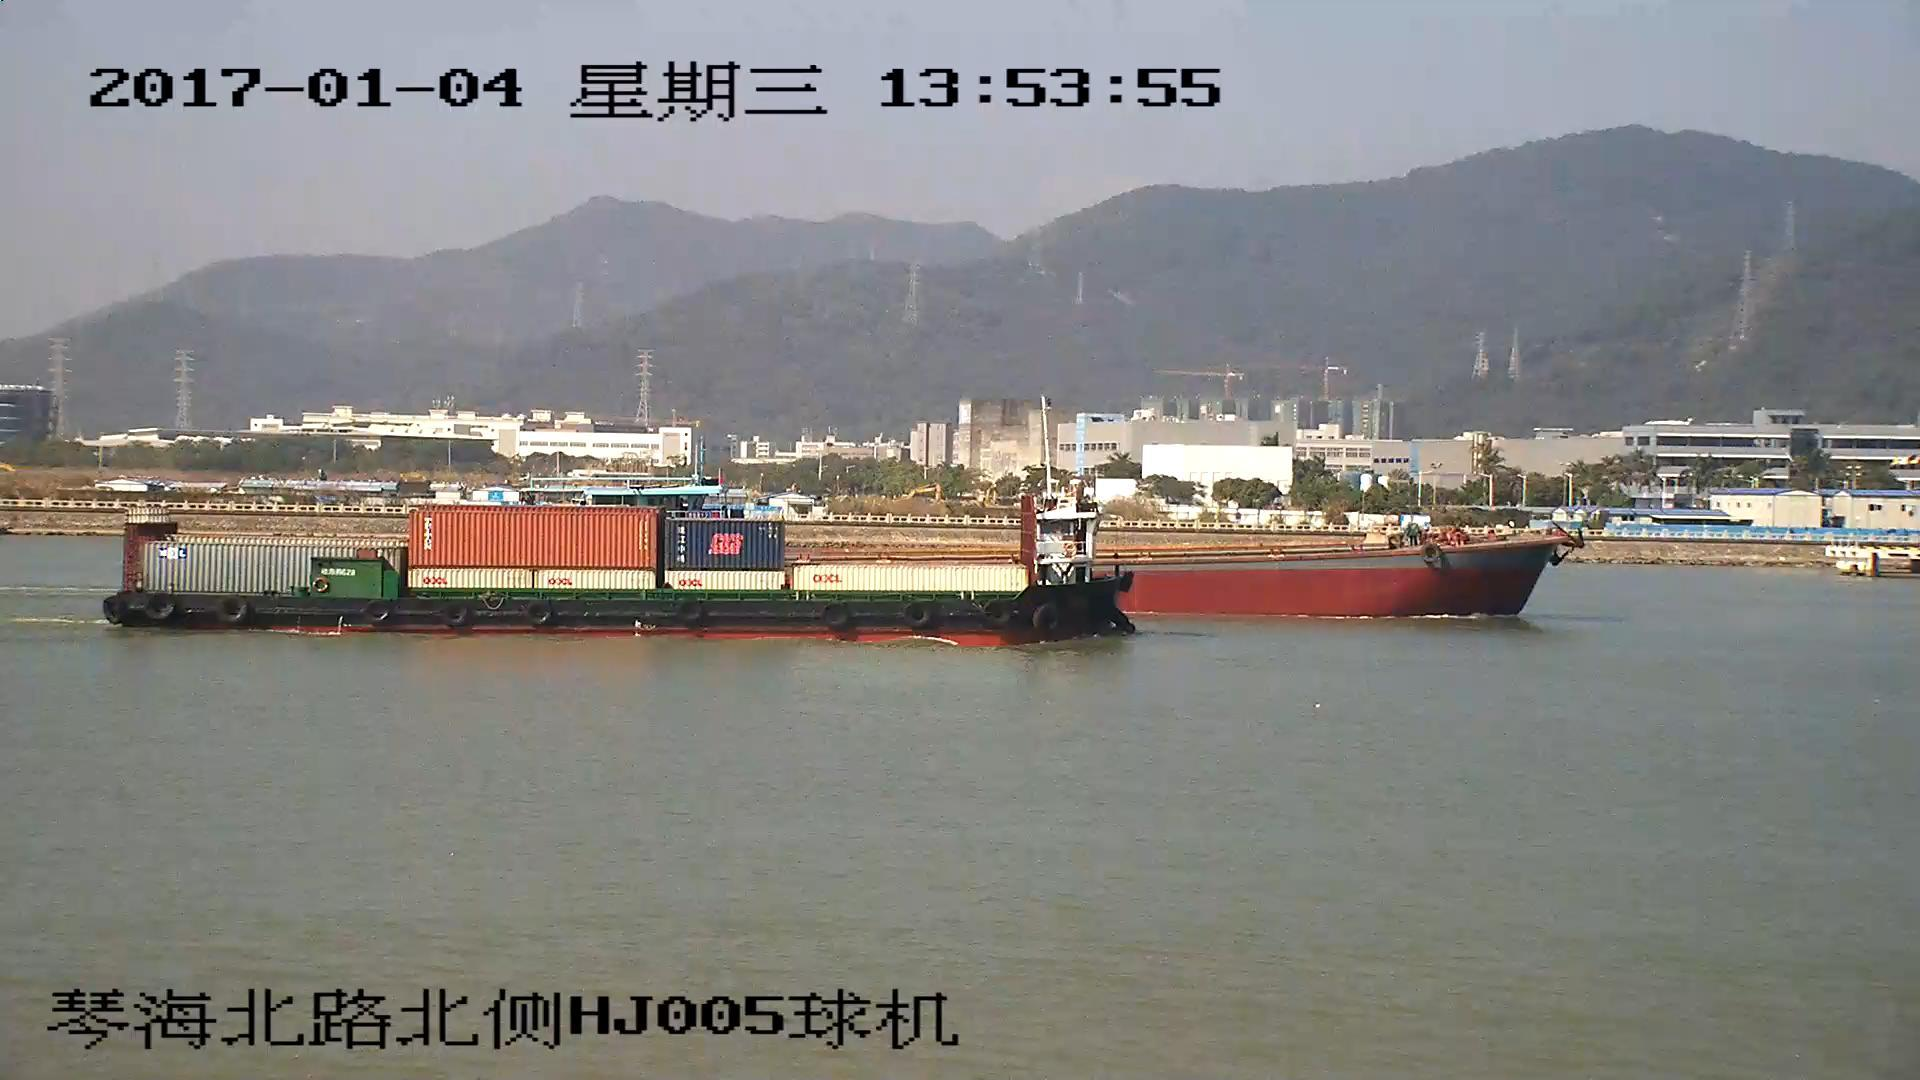Ship: (104, 502, 1143, 641), (1131, 527, 1567, 620)
